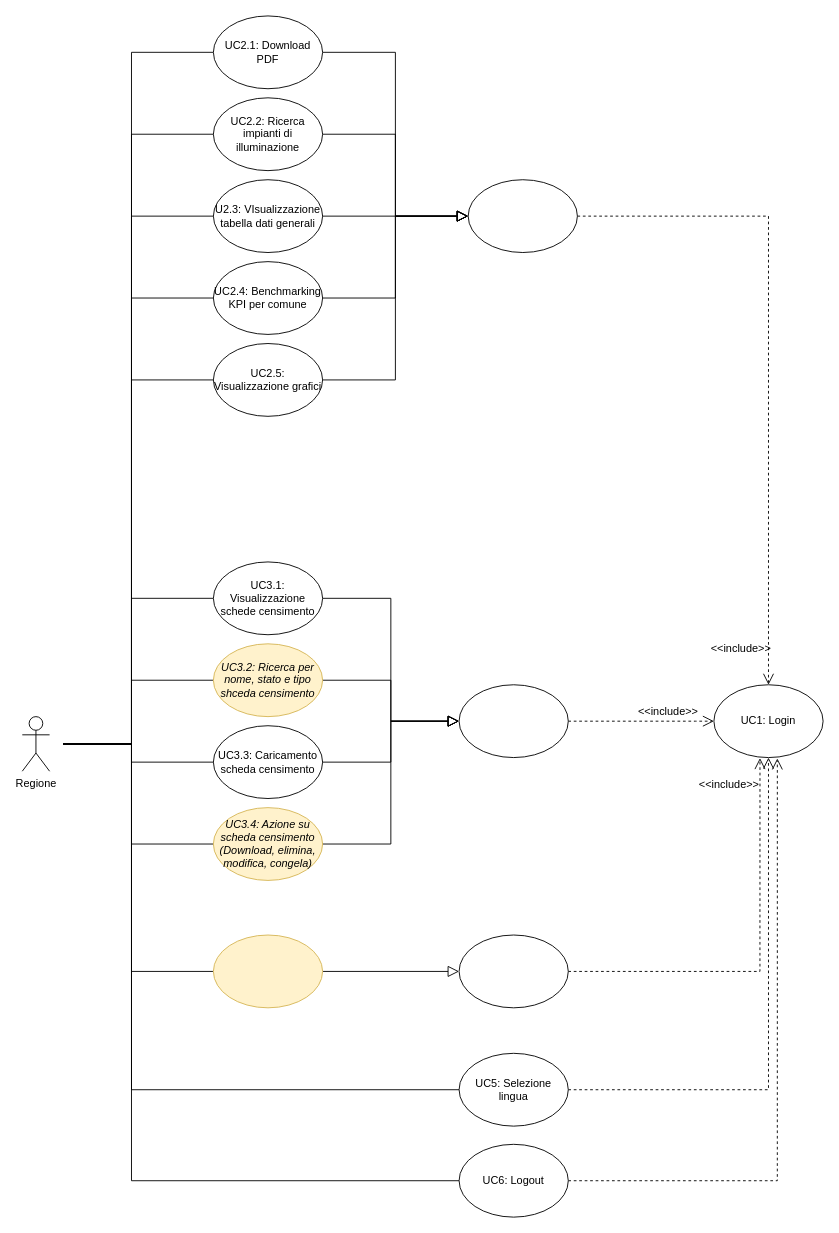
This 839x1233 diagram has some shape labels left out. The box of each missing label's shape, as (x1, y1, x2, y2) in pixels:
UC2: Dashboard: (467, 179, 577, 253)
UC3: Gestione schede censimento: (458, 684, 568, 758)
UC4.4: Visualizzazione risultati: (212, 934, 323, 1008)
UC4: Gestione Modulo SAVE: (458, 934, 568, 1008)
